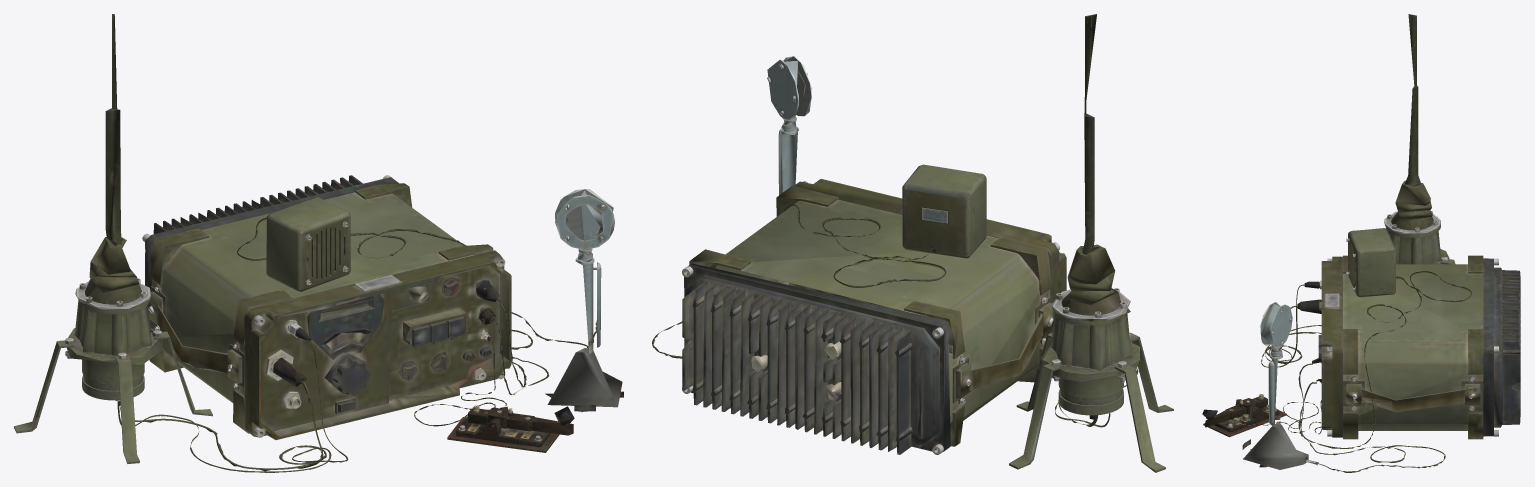
The model's file is radio.glb.
The picture shows the model from 3 angles, left to right: view 1: azimuth 30°, elevation 25°; view 2: azimuth 150°, elevation 25°; view 3: azimuth 270°, elevation 25°; orthographic projection. The views are drawn at different scales.
Visible parts, largest first — view 1: vintage_radio_transceiver, vintage_radio_transceiver_cable; view 2: vintage_radio_transceiver, vintage_radio_transceiver_cable; view 3: vintage_radio_transceiver, vintage_radio_transceiver_cable.
Boxes of the visible parts, x1,y1,x2,y2 form: vintage_radio_transceiver: [142, 175, 511, 439]; vintage_radio_transceiver_cable: [14, 14, 623, 472]; vintage_radio_transceiver: [682, 179, 1066, 454]; vintage_radio_transceiver_cable: [652, 14, 1173, 472]; vintage_radio_transceiver: [1318, 255, 1520, 439]; vintage_radio_transceiver_cable: [1202, 14, 1471, 472].
Size of the model in its own units: 0.574 by 0.4344 by 0.4117.
2 materials, 2 textured.
